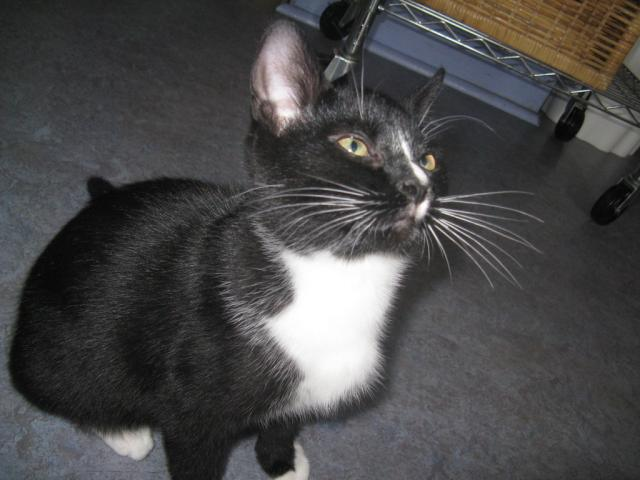Cat: (7, 15, 544, 478)
